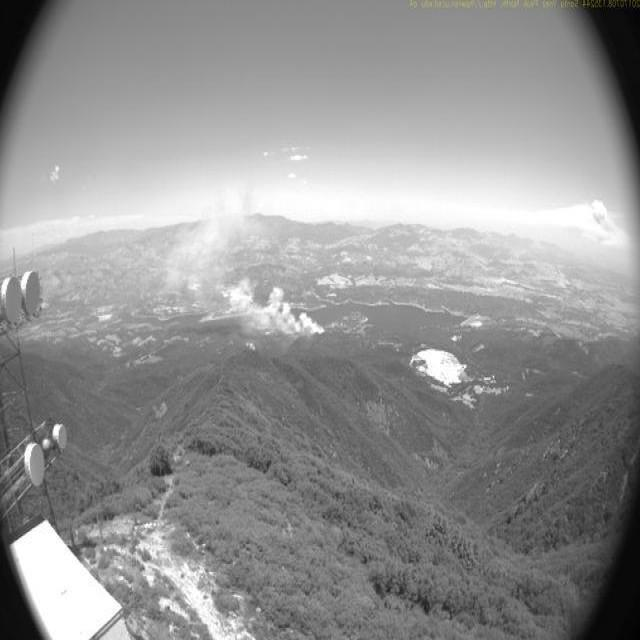smoke: (157, 171, 331, 348)
